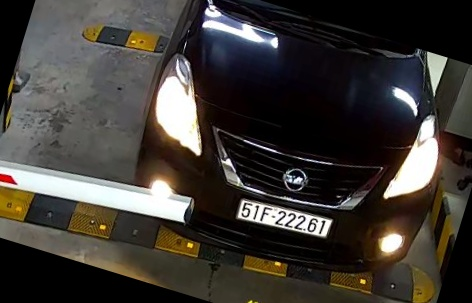plate: (235, 193, 339, 247)
